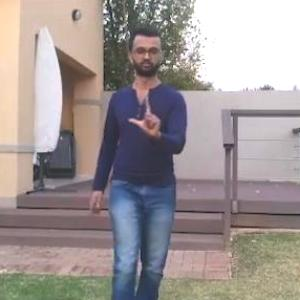land_hand: (126, 88, 170, 143)
